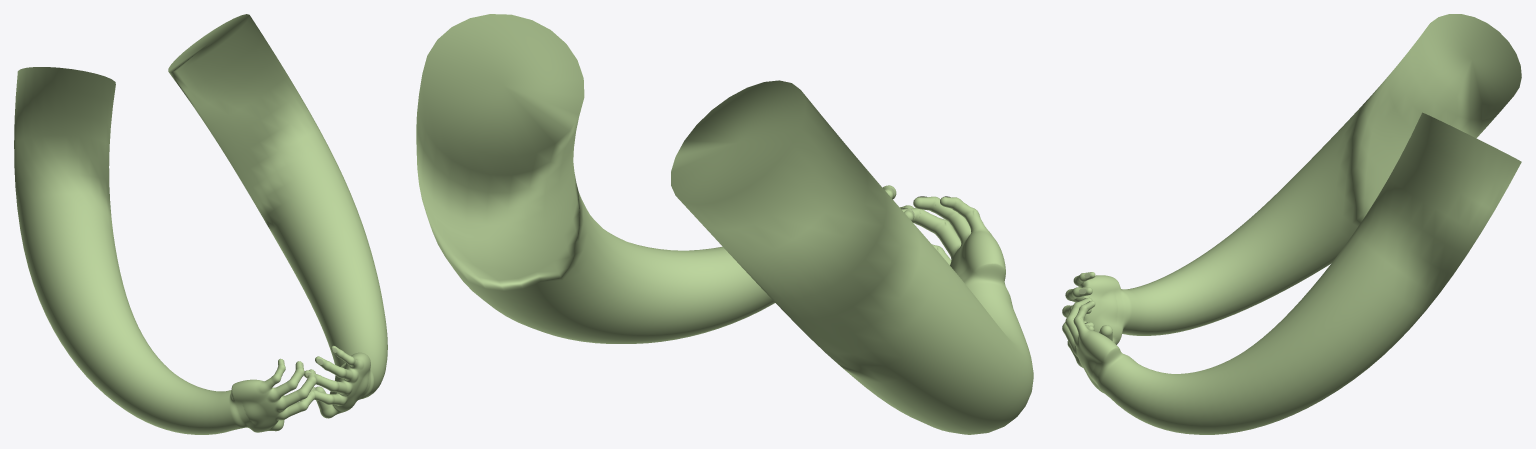
The model's file is gobhi-hold.glb.
3 renders of one model, left to right at view 1: azimuth 30°, elevation 25°; view 2: azimuth 150°, elevation 25°; view 3: azimuth 270°, elevation 25°, orthographic. The views are drawn at different scales.
Parts seen in each view (by area): view 1: arm-left, arm-right; view 2: arm-left, arm-right; view 3: arm-right, arm-left.
Part boxes in pixels (left/top/right/bottom): arm-left: left=14, top=67, right=316, bottom=434; arm-right: left=168, top=14, right=387, bottom=418; arm-left: left=671, top=80, right=1033, bottom=434; arm-right: left=416, top=14, right=914, bottom=343; arm-right: left=1062, top=112, right=1521, bottom=434; arm-left: left=1062, top=14, right=1521, bottom=344.
Size of the model in its own units: 0.837 by 0.709 by 0.9503.
